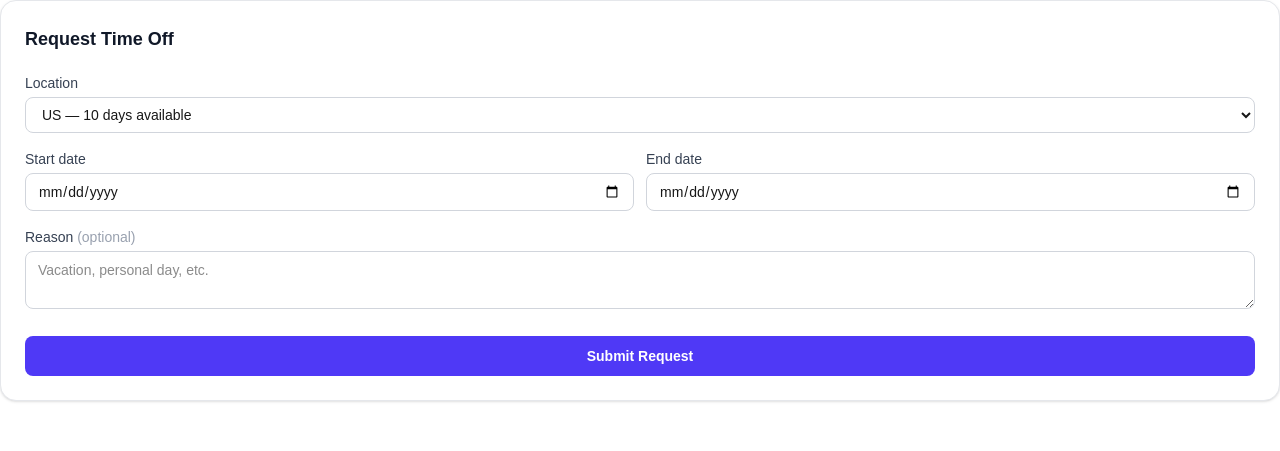
Test: TimeOffForm › shows insufficient balance error when days exceed available
Note: Select EU location (only 2 days available)
Select "EU — 2 days available" in the dropdown labelled "Location" at (640,115), box [25, 97, 1255, 133]
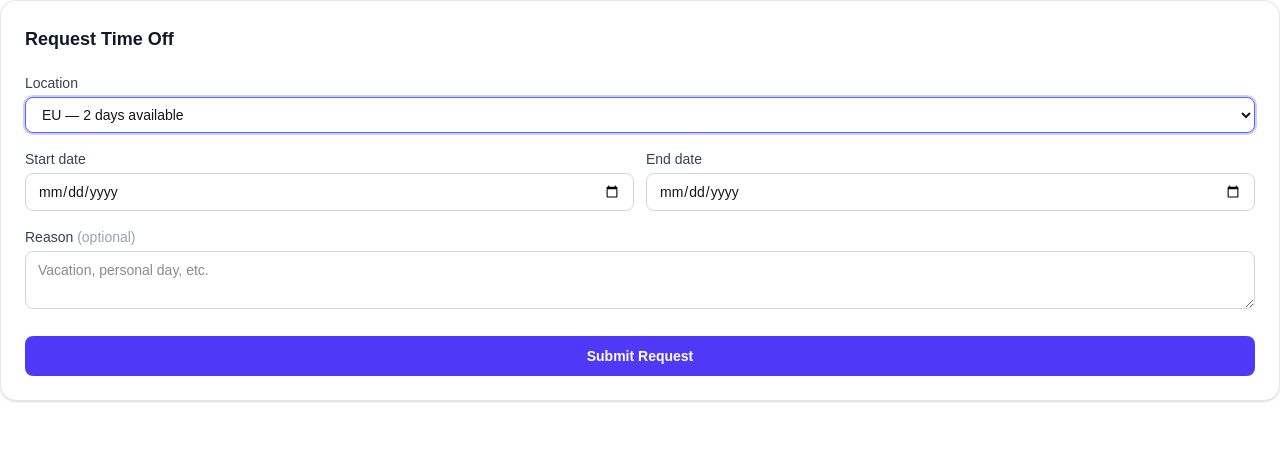
Type "2026-08-01" into the date field labelled "Start date" at (330,192), box [25, 173, 634, 211]
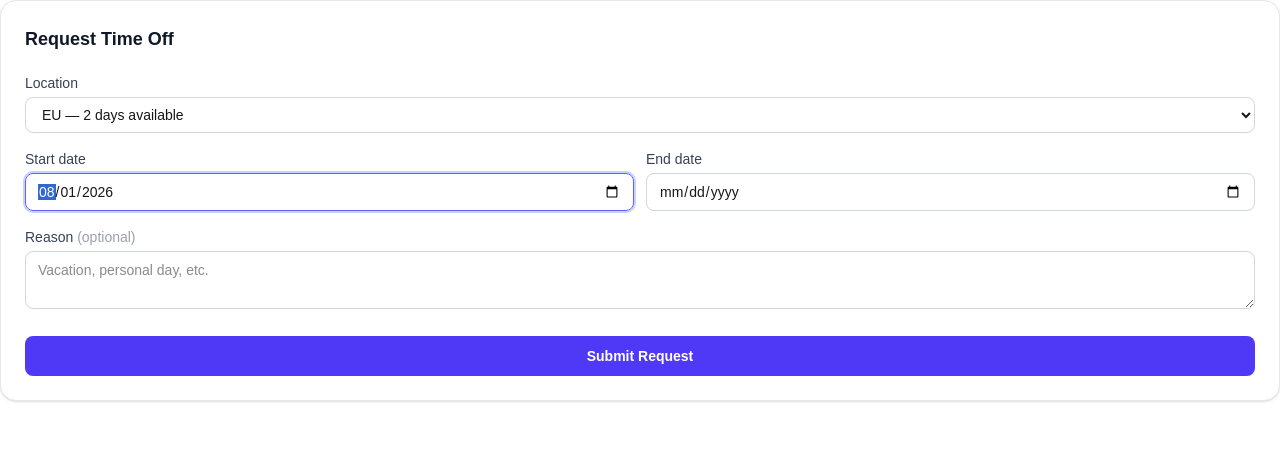
Type "2026-08-05" into the date field labelled "End date" at (950,192), box [646, 173, 1255, 211]
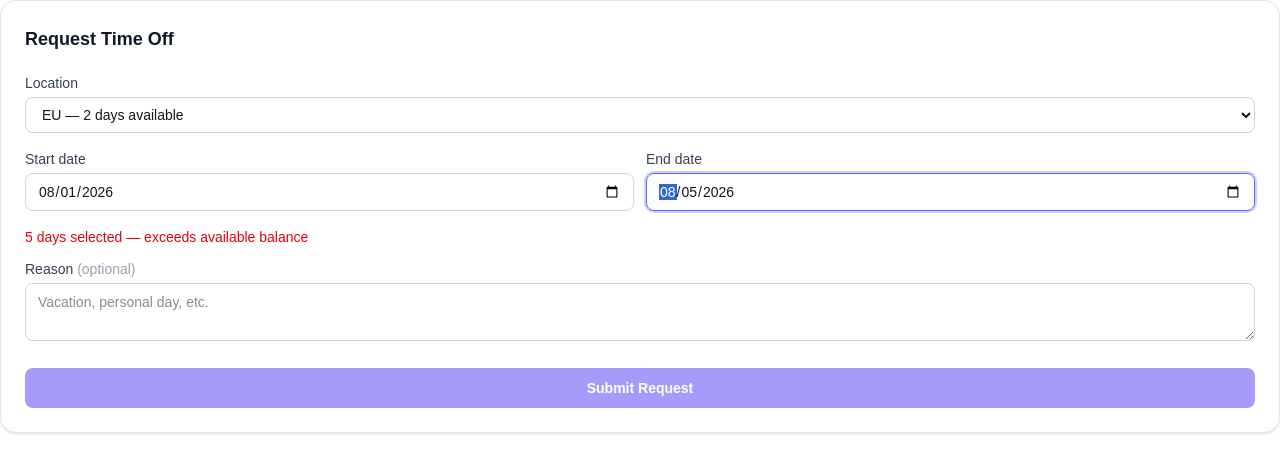
Result: the message shows "exceeds available balance" at [122, 229, 308, 245]
Result: the button with test id "submit-button" is disabled at [25, 368, 1255, 408]
